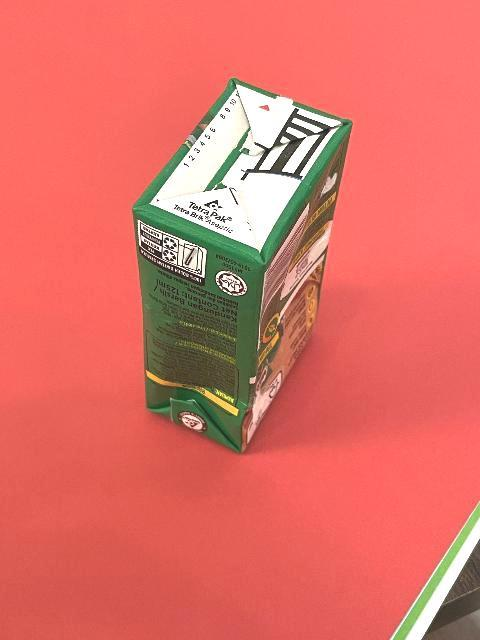drinkpack: (130, 73, 354, 457)
